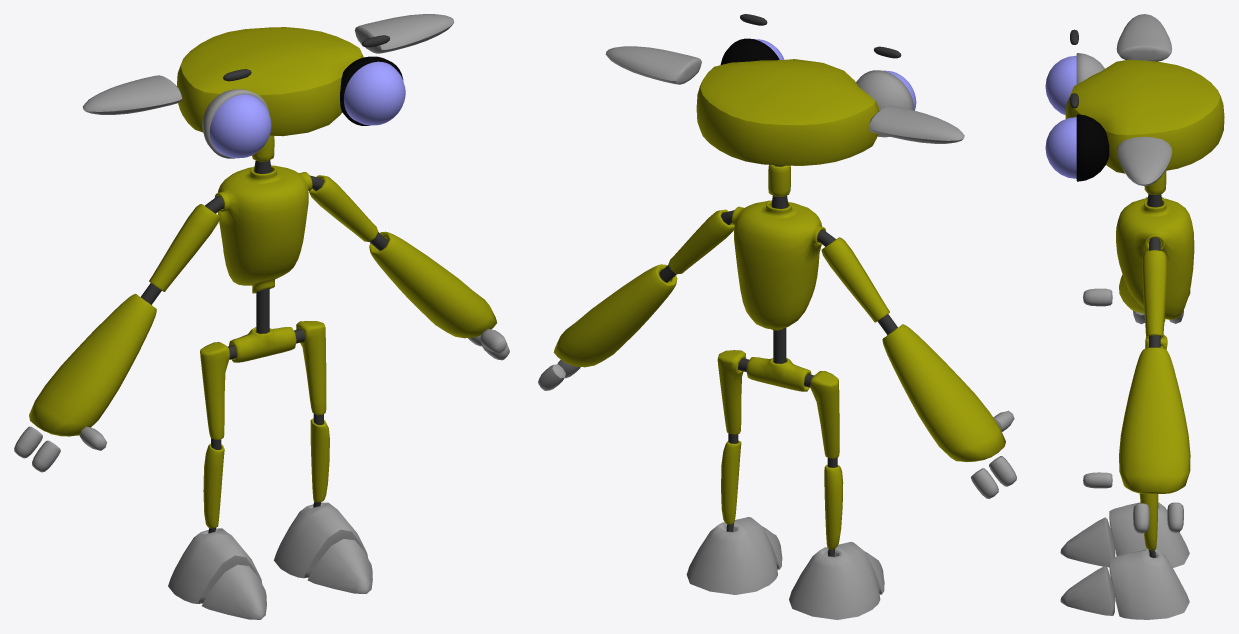
The model's file is die6.obj.
The picture shows the model from 3 angles, left to right: view 1: azimuth 30°, elevation 25°; view 2: azimuth 150°, elevation 25°; view 3: azimuth 270°, elevation 25°; orthographic projection. The views are drawn at different scales.
Visible parts, largest first — view 1: Mesh polySurface50, Mesh polySurface41, Mesh polySurface37, Mesh polySurface18, Mesh polySurface48, Mesh polySurface10, Mesh polySurface6, Mesh polySurface26, Mesh polySurface22, Mesh polySurface8, Mesh polySurface24, Mesh polySurface38 (+10 smaller); view 2: Mesh polySurface41, Mesh polySurface50, Mesh polySurface37, Mesh polySurface48, Mesh polySurface18, Mesh polySurface26, Mesh polySurface10, Mesh polySurface38, Mesh polySurface47, Mesh polySurface44, Mesh polySurface28, Mesh polySurface51 (+7 smaller); view 3: Mesh polySurface50, Mesh polySurface18, Mesh polySurface41, Mesh polySurface10, Mesh polySurface48, Mesh polySurface26, Mesh polySurface44, Mesh polySurface51, Mesh polySurface4, Mesh polySurface8, Mesh polySurface6, Mesh polySurface24 (+11 smaller).
Boxes of the visible parts, bbox=[...] form: Mesh polySurface50: bbox=[181, 27, 361, 95]; Mesh polySurface41: bbox=[214, 165, 312, 293]; Mesh polySurface37: bbox=[29, 293, 156, 436]; Mesh polySurface18: bbox=[369, 231, 496, 338]; Mesh polySurface48: bbox=[177, 50, 363, 136]; Mesh polySurface10: bbox=[274, 502, 367, 578]; Mesh polySurface6: bbox=[344, 61, 405, 125]; Mesh polySurface26: bbox=[168, 528, 262, 603]; Mesh polySurface22: bbox=[209, 94, 271, 158]; Mesh polySurface8: bbox=[307, 539, 372, 593]; Mesh polySurface24: bbox=[202, 564, 266, 619]; Mesh polySurface38: bbox=[149, 204, 219, 291]; Mesh polySurface41: bbox=[731, 200, 825, 330]; Mesh polySurface50: bbox=[700, 59, 875, 125]; Mesh polySurface37: bbox=[882, 324, 1005, 461]; Mesh polySurface48: bbox=[696, 82, 878, 165]; Mesh polySurface18: bbox=[553, 264, 677, 367]; Mesh polySurface26: bbox=[789, 542, 880, 619]; Mesh polySurface10: bbox=[686, 517, 777, 594]; Mesh polySurface38: bbox=[821, 237, 889, 322]; Mesh polySurface47: bbox=[868, 105, 964, 140]; Mesh polySurface44: bbox=[605, 46, 699, 80]; Mesh polySurface28: bbox=[810, 371, 839, 458]; Mesh polySurface51: bbox=[668, 209, 734, 274]; Mesh polySurface50: bbox=[1069, 59, 1219, 134]; Mesh polySurface18: bbox=[1119, 347, 1190, 493]; Mesh polySurface41: bbox=[1116, 198, 1194, 322]; Mesh polySurface10: bbox=[1109, 548, 1189, 619]; Mesh polySurface48: bbox=[1065, 91, 1224, 173]; Mesh polySurface26: bbox=[1109, 502, 1189, 567]; Mesh polySurface44: bbox=[1116, 136, 1172, 184]; Mesh polySurface51: bbox=[1142, 250, 1167, 338]; Mesh polySurface4: bbox=[1076, 114, 1109, 181]; Mesh polySurface8: bbox=[1060, 566, 1113, 615]; Mesh polySurface6: bbox=[1045, 117, 1076, 178]; Mesh polySurface24: bbox=[1060, 517, 1111, 567].
Bounding box in the file's own units: 12.91 × 14.23 × 4.49.
